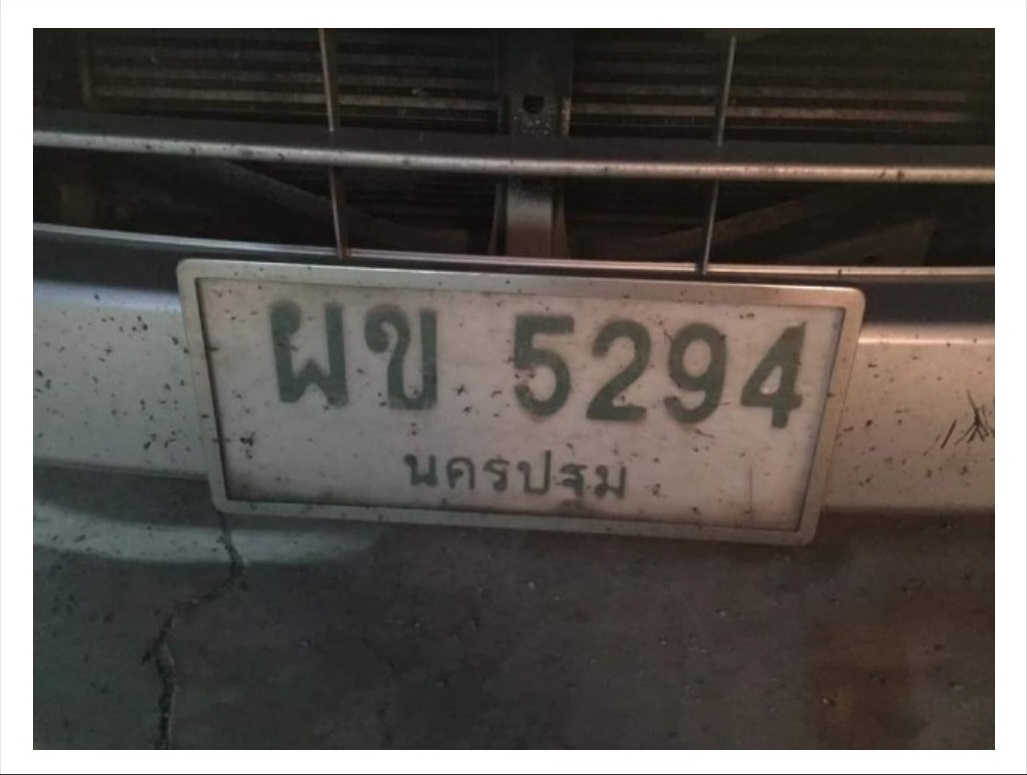Non-Bangkok: (385, 428, 637, 528)
